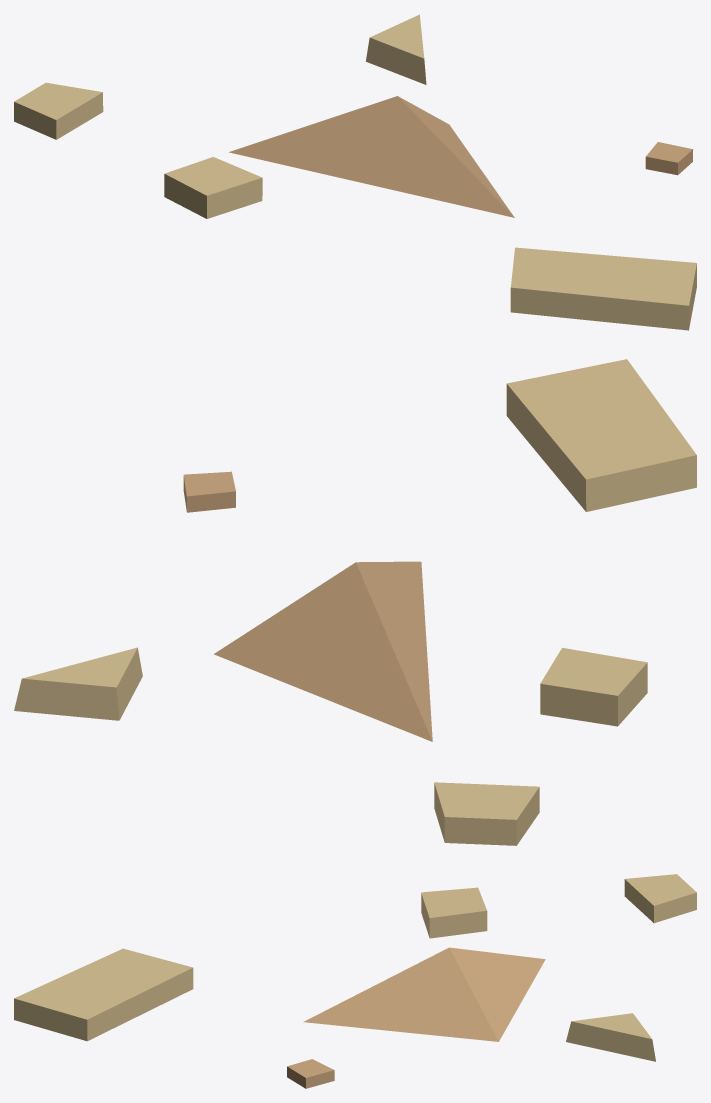
The model's file is Rocks_Flat_s_02.fbx.
The picture shows the model from 3 angles, top to bottom: view 1: azimuth 30°, elevation 25°; view 2: azimuth 150°, elevation 25°; view 3: azimuth 270°, elevation 25°; orthographic projection. The views are drawn at different scales.
Visible parts, largest first — view 1: Rocks_Flat_s_02; view 2: Rocks_Flat_s_02; view 3: Rocks_Flat_s_02.
Part boxes in pixels (bbox=[...]): Rocks_Flat_s_02: bbox=[14, 14, 696, 330]; Rocks_Flat_s_02: bbox=[14, 359, 696, 845]; Rocks_Flat_s_02: bbox=[14, 874, 696, 1088].
Bounding box in the file's own units: 52.01 × 7.35 × 75.5.
